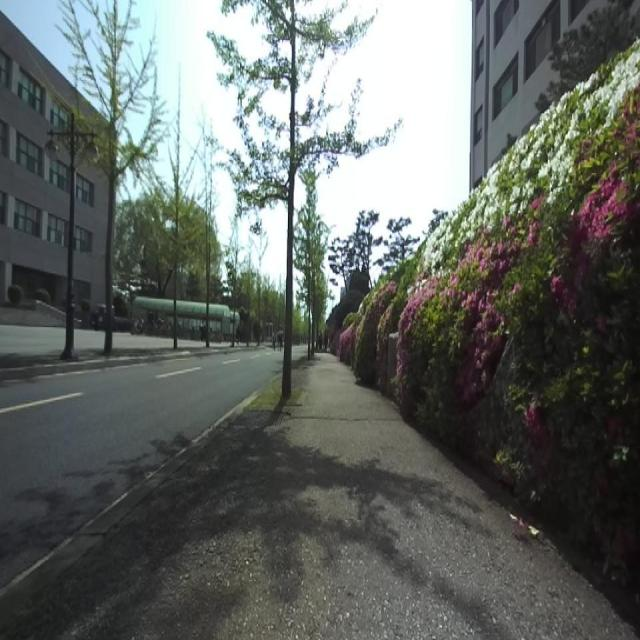sidewalk: (5, 356, 636, 638)
